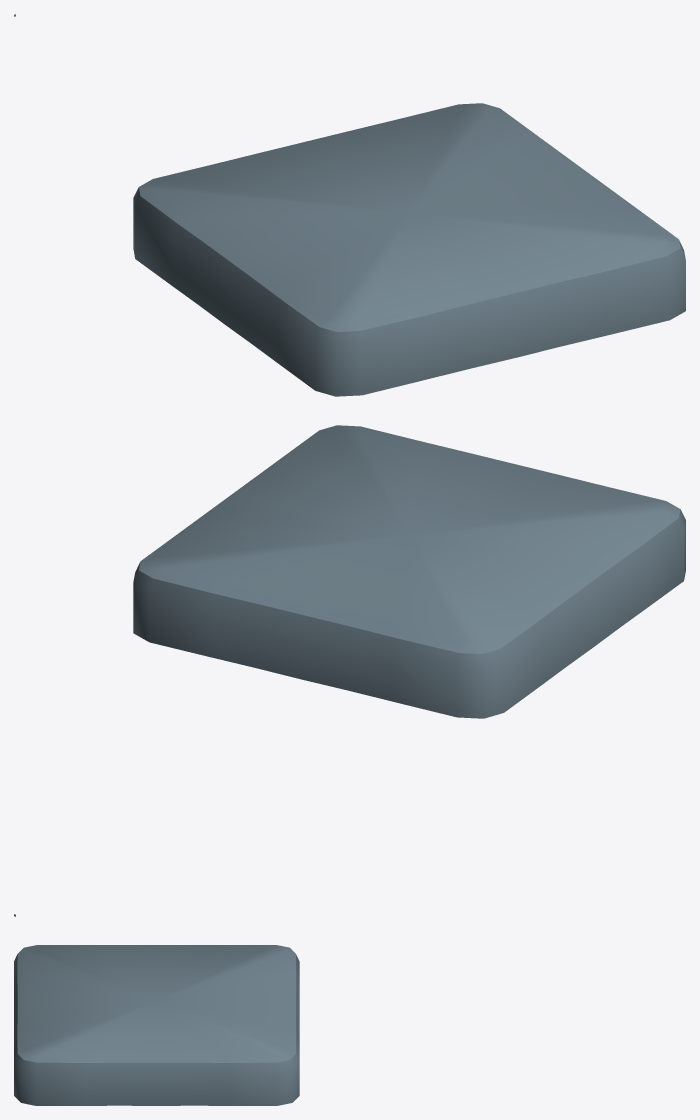
The model's file is AlarmClock_8_AlarmClock_8_0_GeomSubset_1.obj.
The picture shows the model from 3 angles, top to bottom: view 1: azimuth 30°, elevation 25°; view 2: azimuth 150°, elevation 25°; view 3: azimuth 270°, elevation 25°; orthographic projection. The views are drawn at different scales.
Parts seen in each view (by area): view 1: AlarmClock_8_AlarmClock_8_0_GeomSubset_1; view 2: AlarmClock_8_AlarmClock_8_0_GeomSubset_1; view 3: AlarmClock_8_AlarmClock_8_0_GeomSubset_1.
Part boxes in pixels (x1=…): AlarmClock_8_AlarmClock_8_0_GeomSubset_1: x1=14, y1=14, x2=685, y2=396; AlarmClock_8_AlarmClock_8_0_GeomSubset_1: x1=14, y1=425, x2=685, y2=916; AlarmClock_8_AlarmClock_8_0_GeomSubset_1: x1=14, y1=945, x2=299, y2=1105.
Size of the model in its own units: 0.1847 by 0.0444 by 0.4347.
